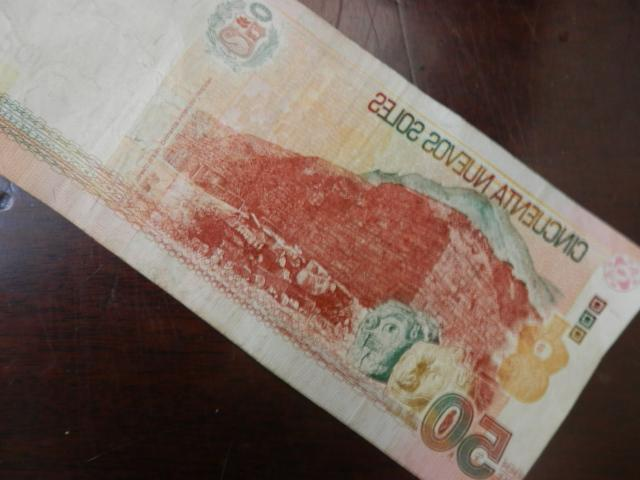B50: (1, 1, 640, 478)
